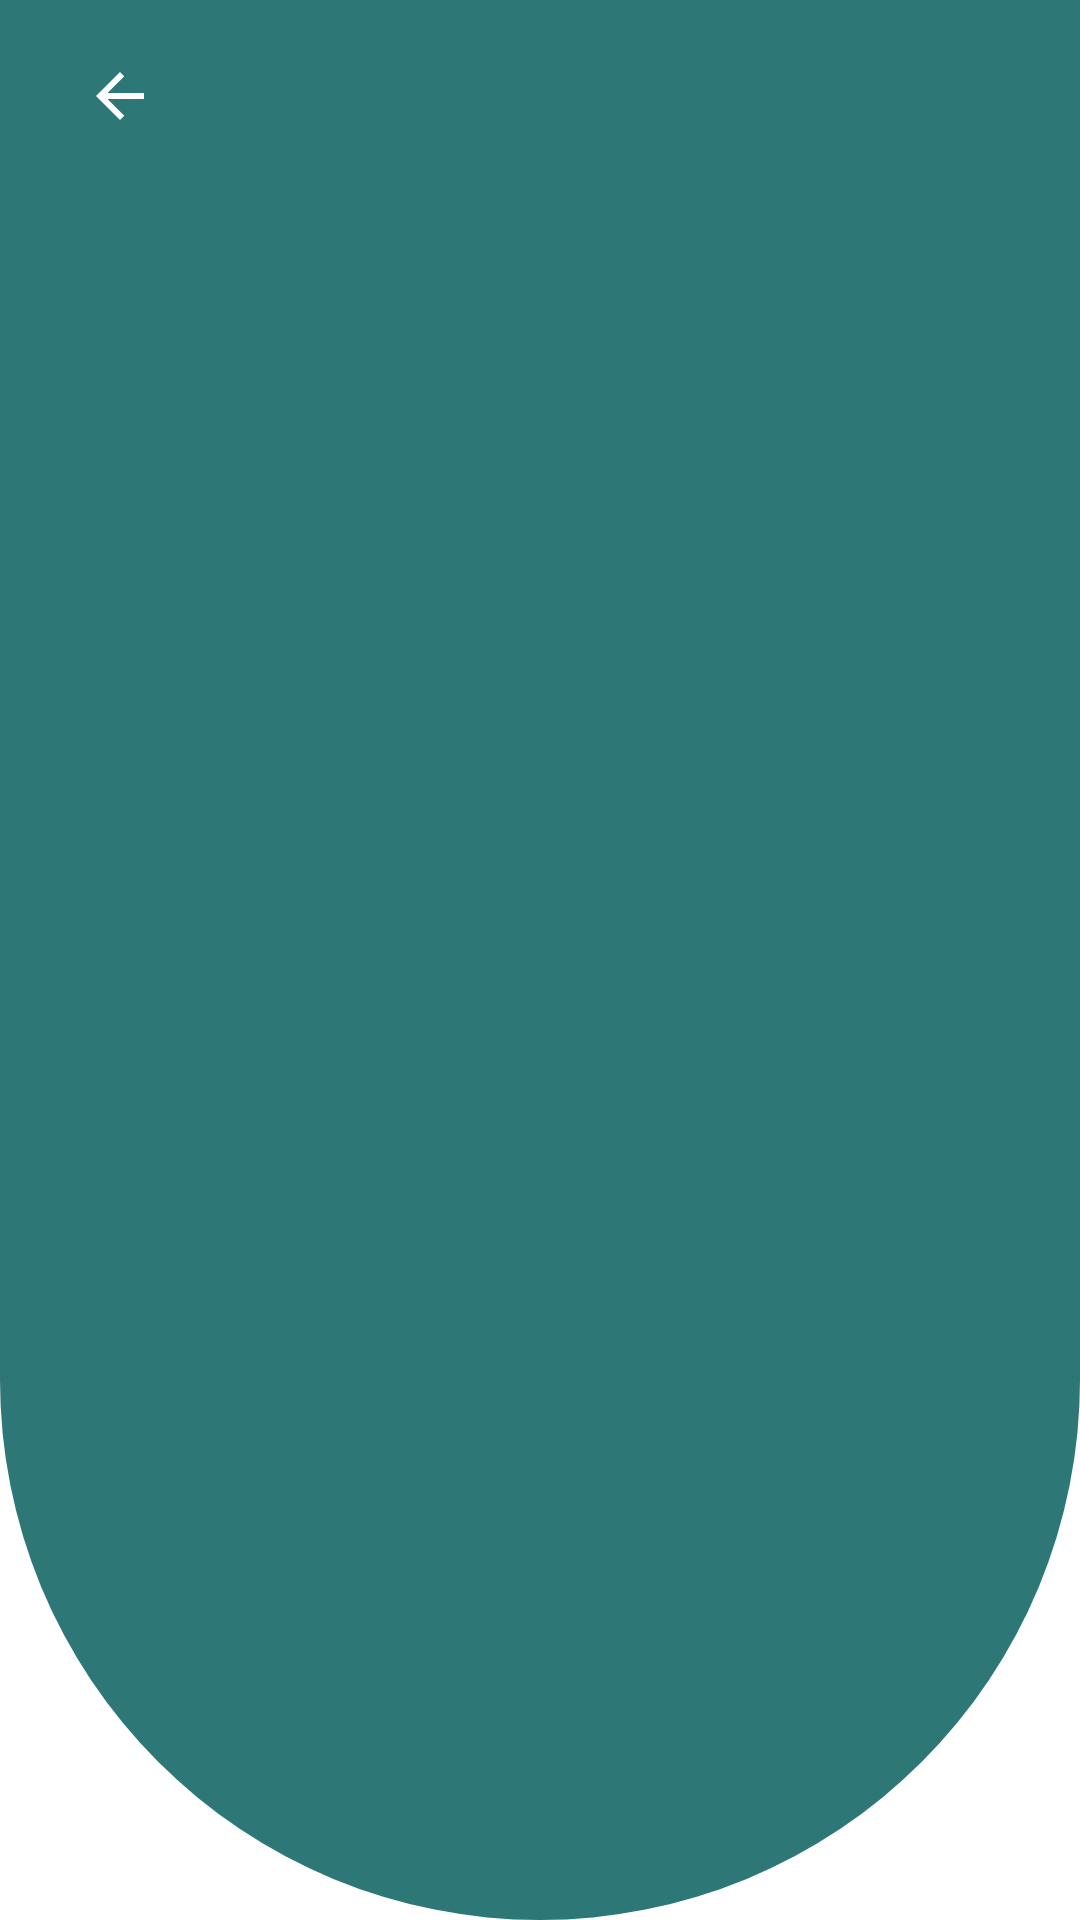

Icon bounding boxes for this 1080px×1920px phone screenshot, format (x1,y1,x2,y2):
Back: (96,72,144,120)
